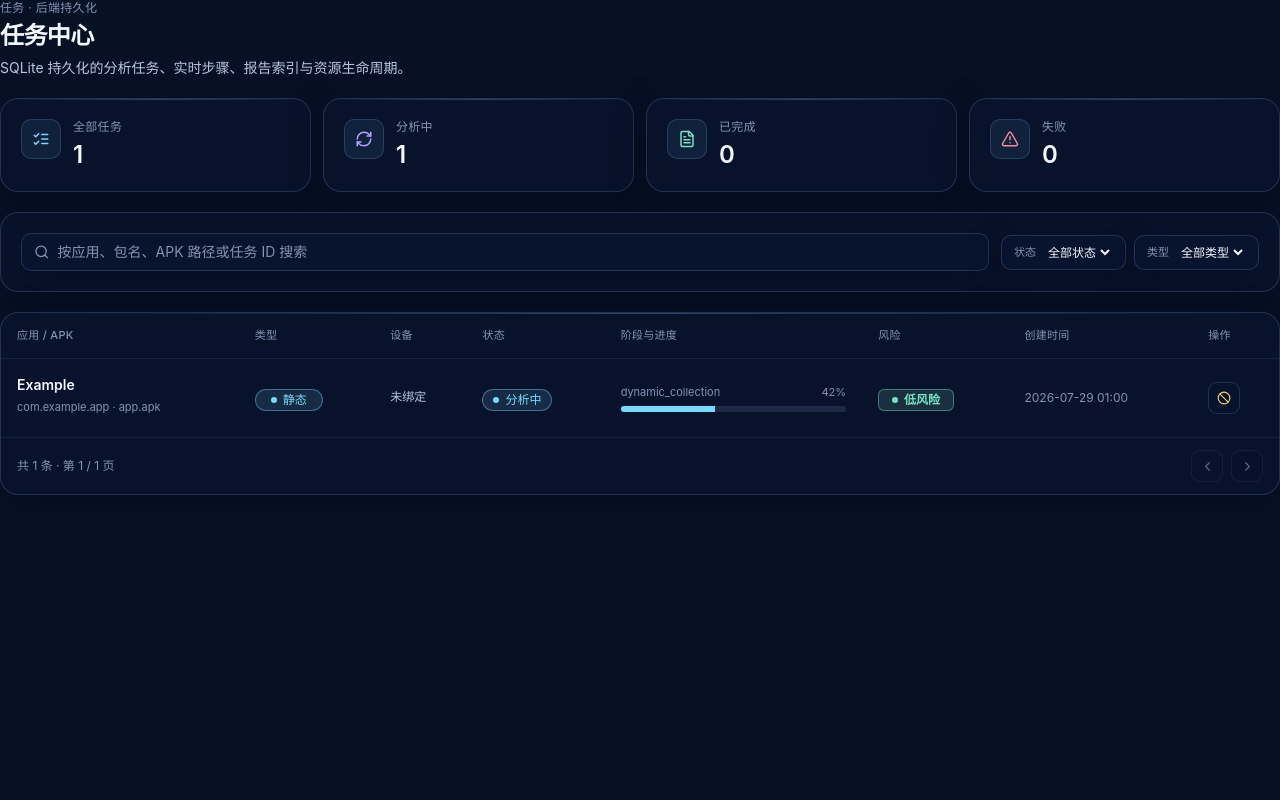
Test: Tasks — 后端持久化任务中心 › 运行中任务需确认后发送取消信号
Click the button named "取消任务".
click(1224, 398)  # box [1208, 382, 1240, 414]
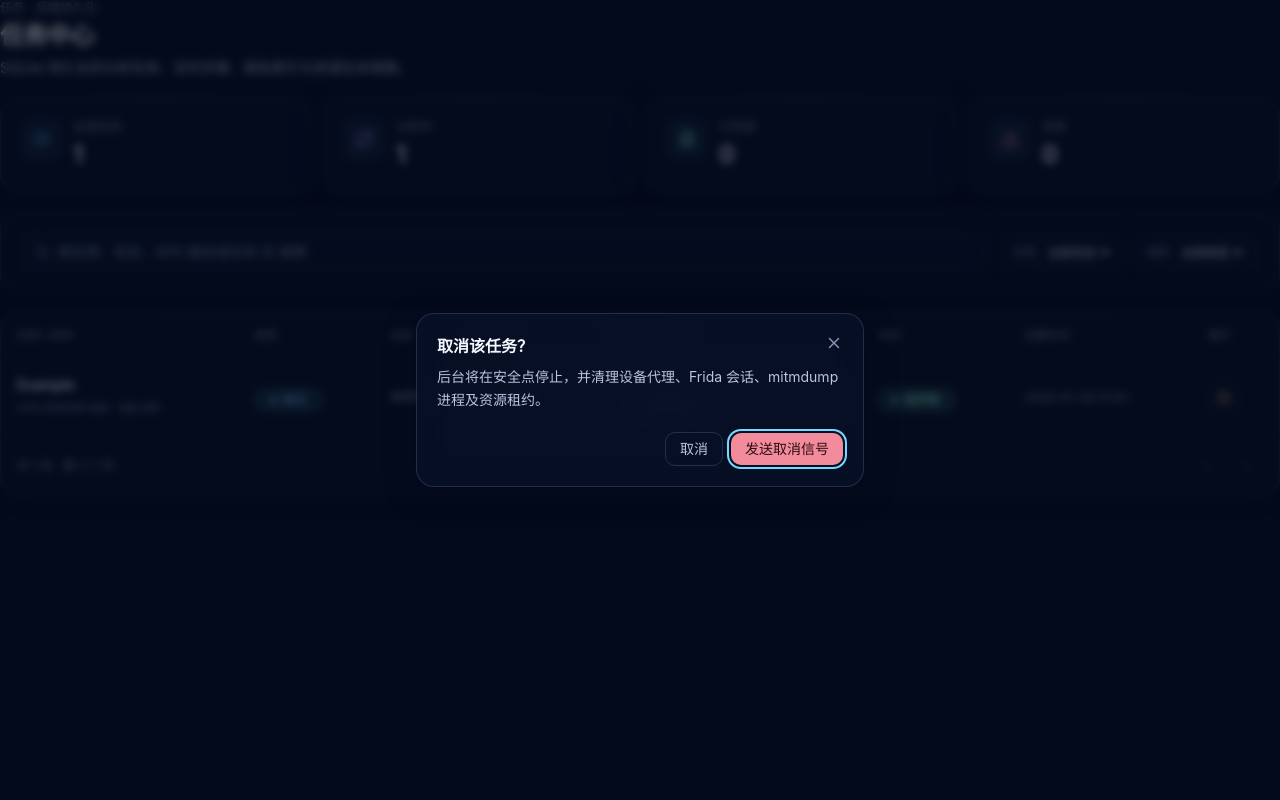
Now the heading "取消该任务？" is shown, box [437, 334, 533, 358]
Click the button "发送取消信号".
click(787, 449)  # box [731, 433, 843, 465]
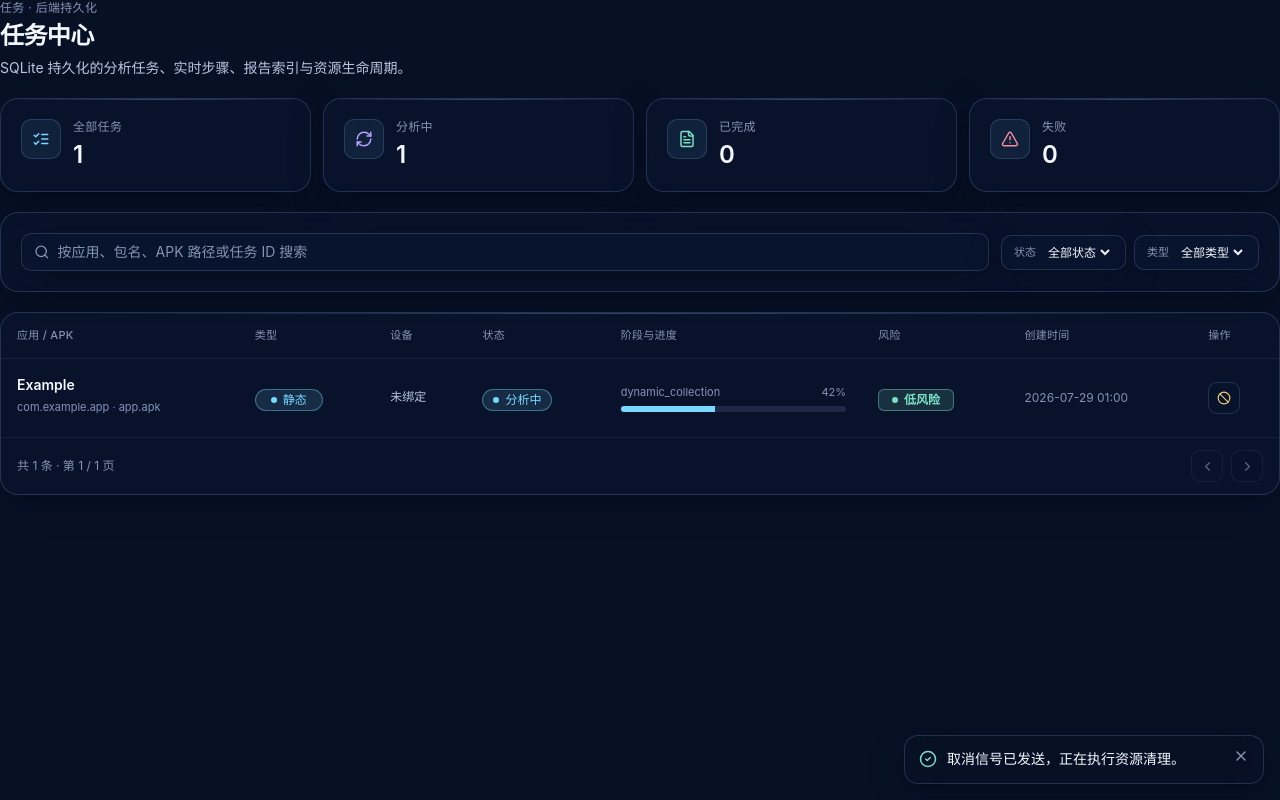
Now the text "取消信号已发送，正在执行资源清理。" is shown, box [947, 748, 1223, 771]
